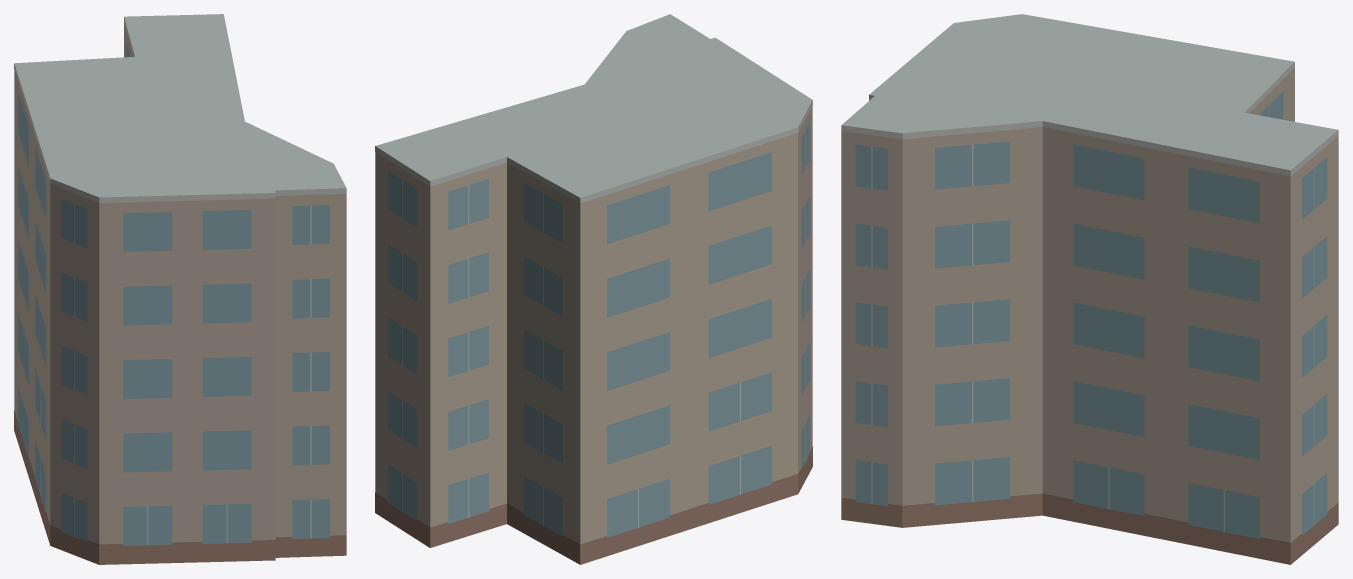
Rendered from survey-upis-32955291.glb.
3 renders of one model, left to right at view 1: azimuth 30°, elevation 25°; view 2: azimuth 150°, elevation 25°; view 3: azimuth 270°, elevation 25°, orthographic. The views are drawn at different scales.
Visible parts, largest first — view 1: survey-upis-32955291.tmp; view 2: survey-upis-32955291.tmp; view 3: survey-upis-32955291.tmp.
Boxes of the visible parts, x1,y1,x2,y2 form: survey-upis-32955291.tmp: [14, 14, 346, 564]; survey-upis-32955291.tmp: [375, 14, 812, 564]; survey-upis-32955291.tmp: [841, 14, 1338, 564].
Bounding box in the file's own units: 13.61 × 16 × 18.29.
